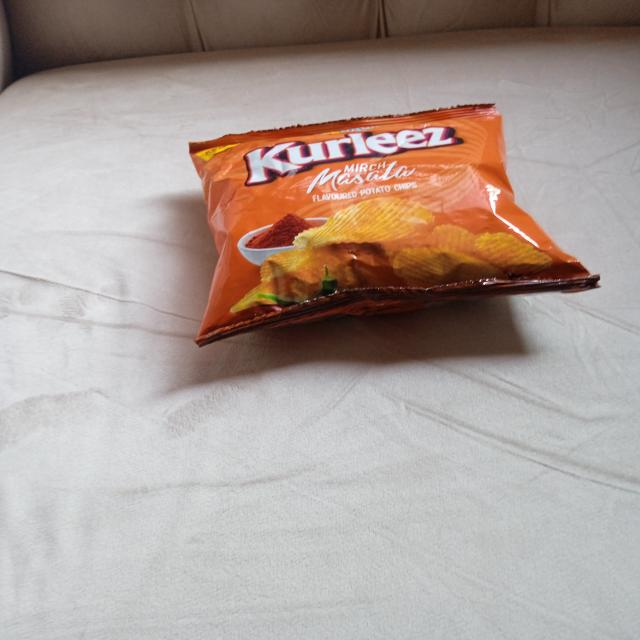Plastic: (187, 102, 598, 346)
